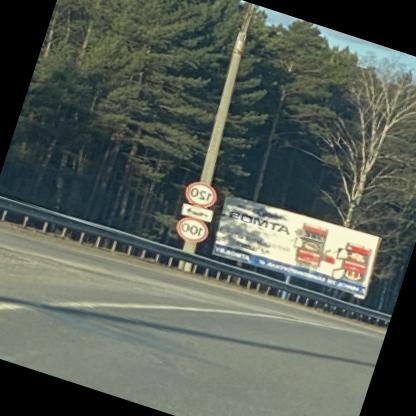speedlimit: (176, 214, 214, 246), (186, 178, 221, 210)
